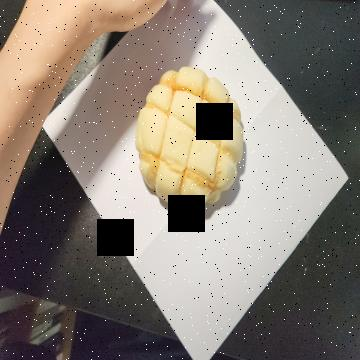melon_bread: (135, 64, 244, 212)
